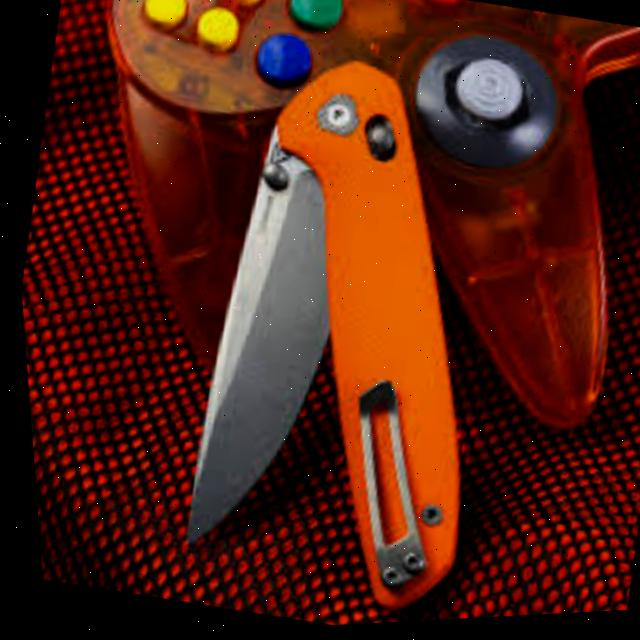knife: (142, 35, 552, 633), (152, 117, 383, 570)
